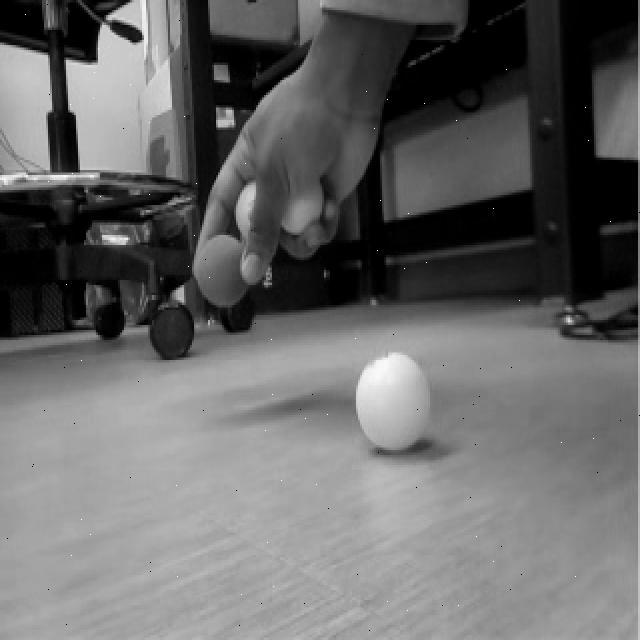ping-pong-ball: (354, 350, 432, 452), (198, 232, 250, 307), (278, 170, 326, 236)
